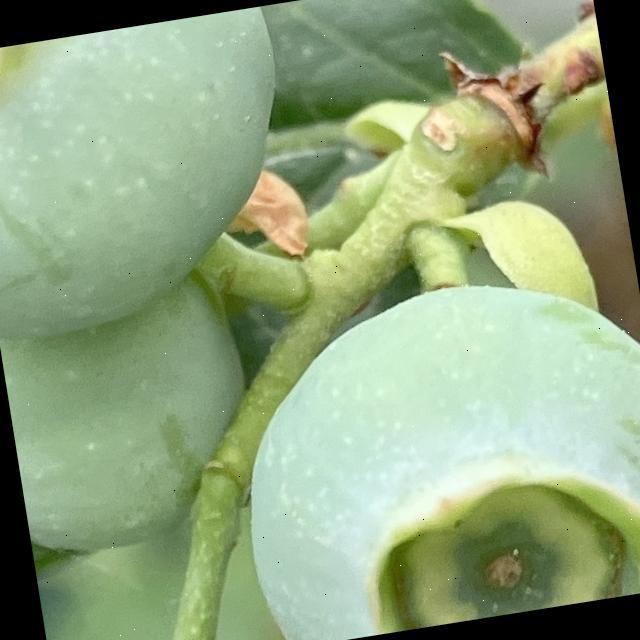Blueberries: (211, 256, 640, 640), (0, 4, 314, 349)
